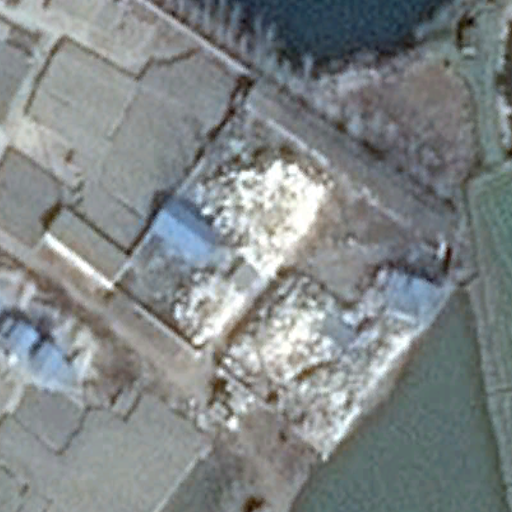msw: (229, 278, 420, 457), (202, 144, 326, 264)
